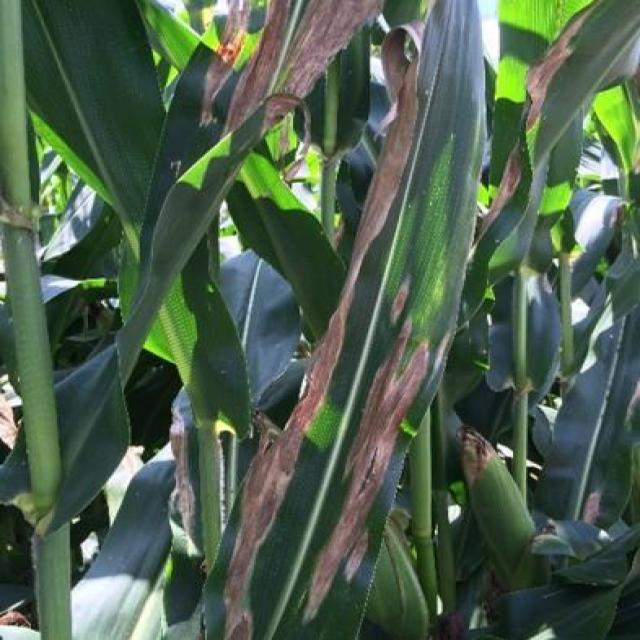blight: (320, 320, 429, 556)
